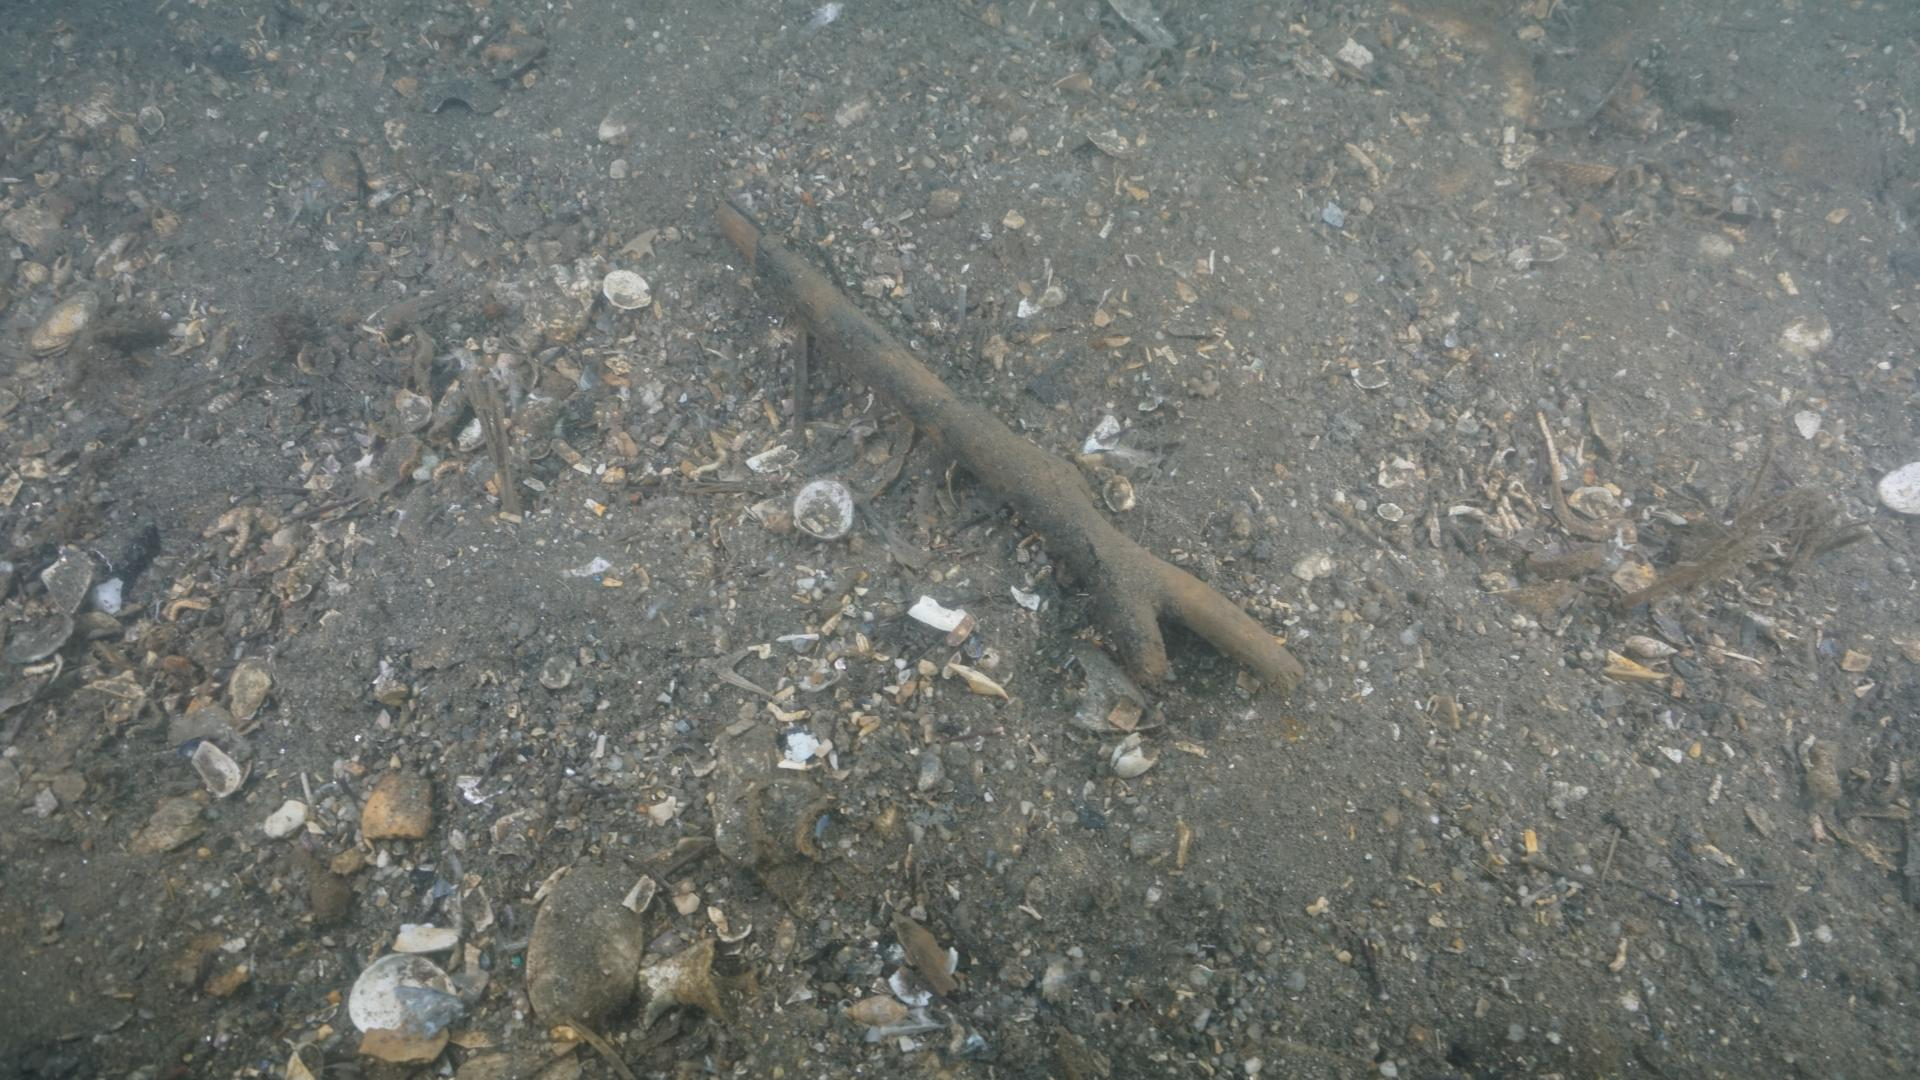wood: (709, 190, 1307, 698)
